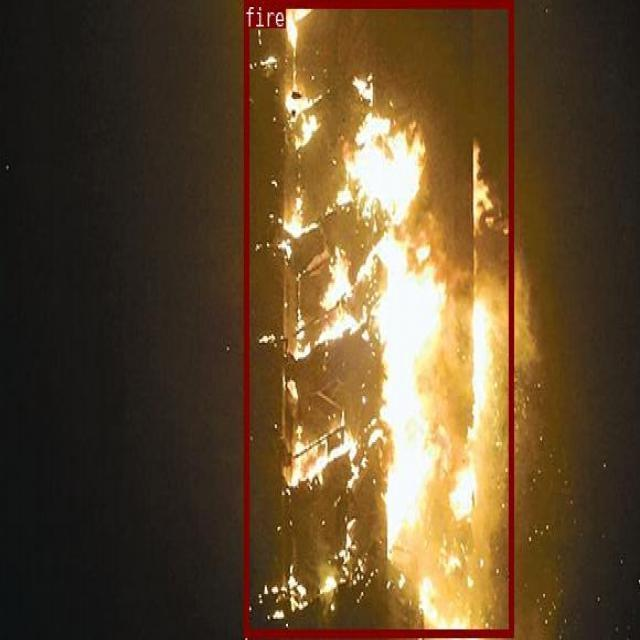fire: (244, 0, 512, 635)
